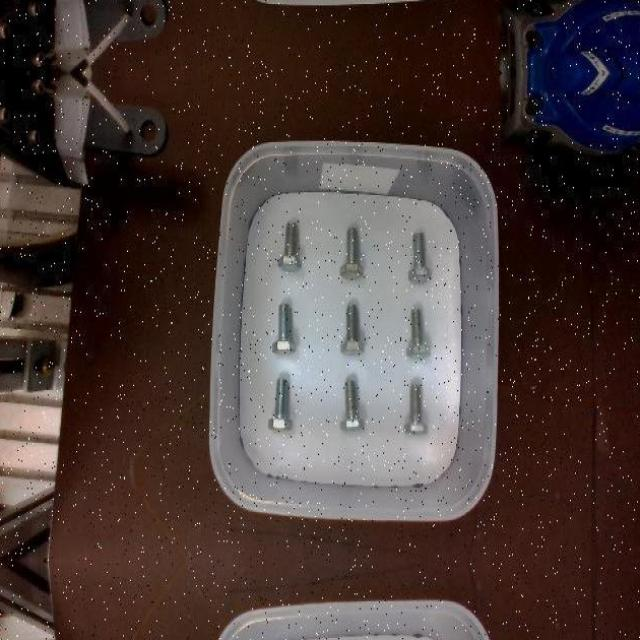screw: (267, 378, 293, 429), (406, 306, 431, 359), (407, 232, 432, 284), (403, 383, 429, 433), (277, 221, 302, 272), (271, 302, 296, 353), (339, 304, 364, 355), (340, 378, 365, 429), (340, 228, 364, 280)
